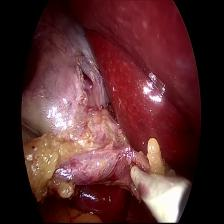Grasper: (20, 118, 46, 148)
Hook: (125, 154, 190, 222)
